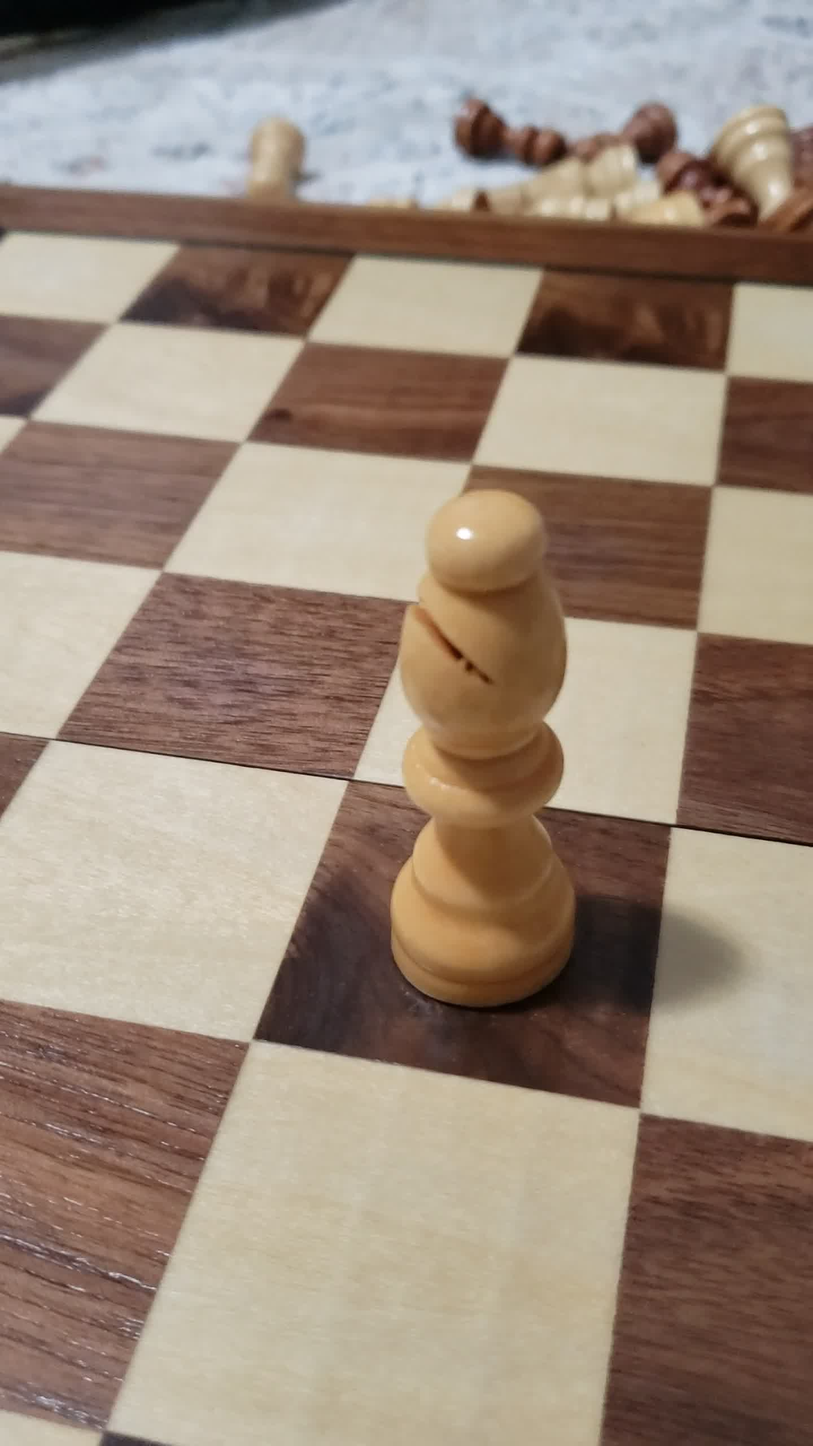white-bishop: (350, 467, 629, 1032)
